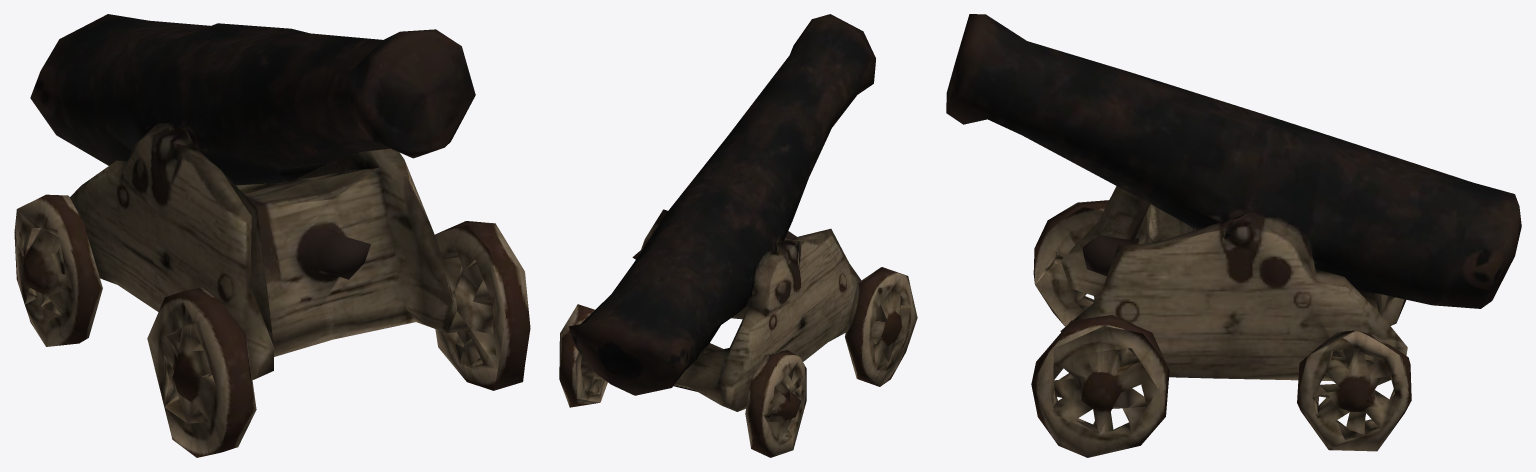
Rendered from wreck-cannon.glb.
3 views of the same model, side by side, from view 1: azimuth 30°, elevation 25°; view 2: azimuth 150°, elevation 25°; view 3: azimuth 270°, elevation 25° (orthographic). The views are drawn at different scales.
Parts seen in each view (by area): view 1: Mesh_0.002; view 2: Mesh_0.002; view 3: Mesh_0.002.
Boxes of the visible parts, <box> form: Mesh_0.002: <box>14,14,530,457</box>; Mesh_0.002: <box>559,14,917,457</box>; Mesh_0.002: <box>946,14,1521,457</box>.
Size of the model in its own units: 1.29 by 1.59 by 2.2.
1 material, 1 textured.
